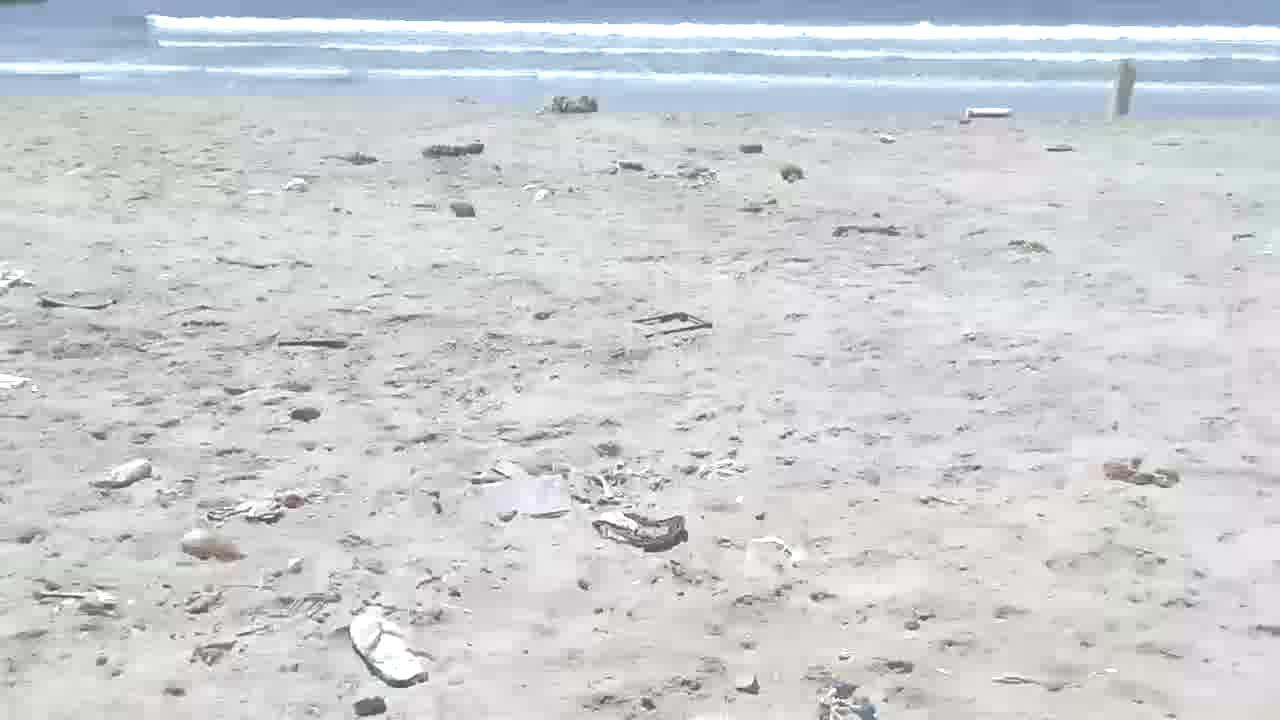large collection of objects: (740, 528, 799, 592), (812, 680, 879, 719), (958, 104, 1018, 124), (735, 674, 759, 695), (284, 406, 318, 419), (736, 142, 764, 155)
obj: (466, 462, 578, 525), (346, 606, 426, 686), (212, 481, 321, 528), (592, 507, 694, 551), (587, 455, 664, 507), (1102, 449, 1184, 488), (33, 584, 118, 620), (670, 446, 753, 481), (184, 524, 244, 563), (630, 310, 712, 338), (92, 454, 152, 492), (646, 160, 720, 190), (828, 220, 902, 243), (38, 293, 124, 311), (519, 180, 582, 202), (1112, 55, 1131, 124), (423, 142, 488, 162), (738, 188, 784, 215), (535, 96, 600, 115), (348, 695, 387, 720), (275, 336, 351, 348), (322, 151, 378, 167), (3, 266, 35, 294), (1, 370, 36, 394), (1007, 238, 1053, 256), (778, 162, 808, 184), (609, 158, 642, 176), (450, 198, 474, 219), (869, 128, 900, 144), (280, 176, 308, 191), (730, 491, 749, 511), (1041, 143, 1075, 151)
sand/background: (1, 0, 1279, 130)
